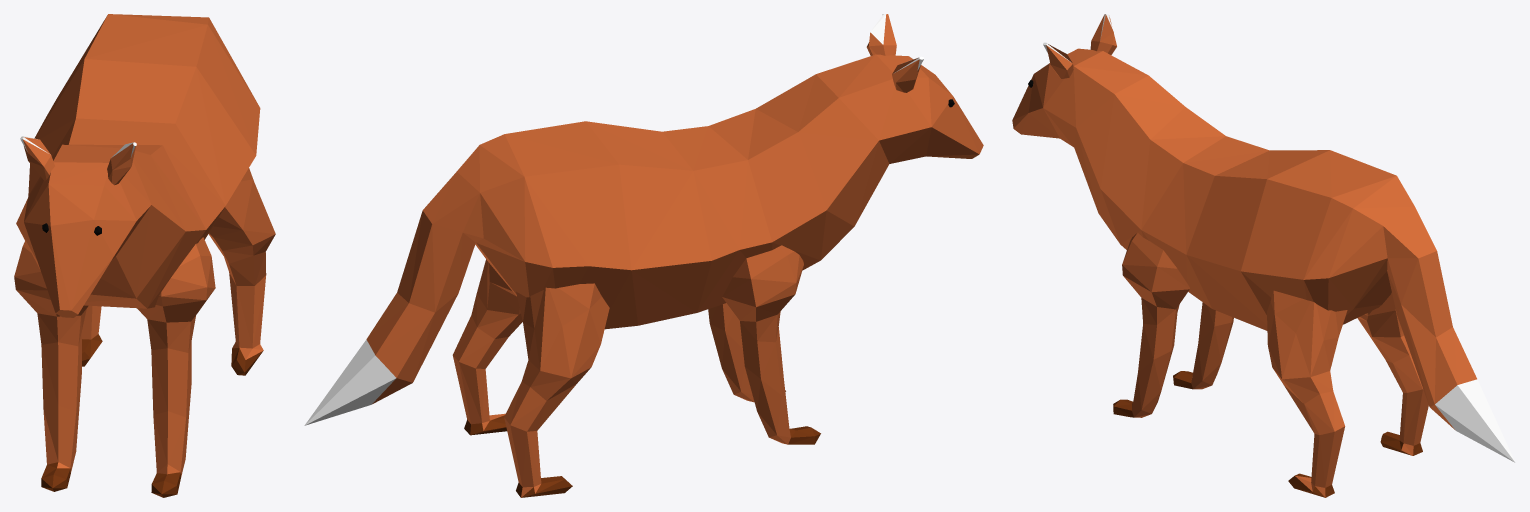
Rendered from Low Poly Fox.fbx.
3 views of the same model, side by side, from view 1: azimuth 30°, elevation 25°; view 2: azimuth 150°, elevation 25°; view 3: azimuth 270°, elevation 25° (orthographic). The views are drawn at different scales.
Parts seen in each view (by area): view 1: Fox; view 2: Fox; view 3: Fox.
Part boxes in pixels (bbox=[...]): Fox: bbox=[14, 14, 275, 497]; Fox: bbox=[304, 14, 983, 497]; Fox: bbox=[1012, 14, 1515, 497].
Size of the model in its own units: 96.86 by 85.34 by 114.
